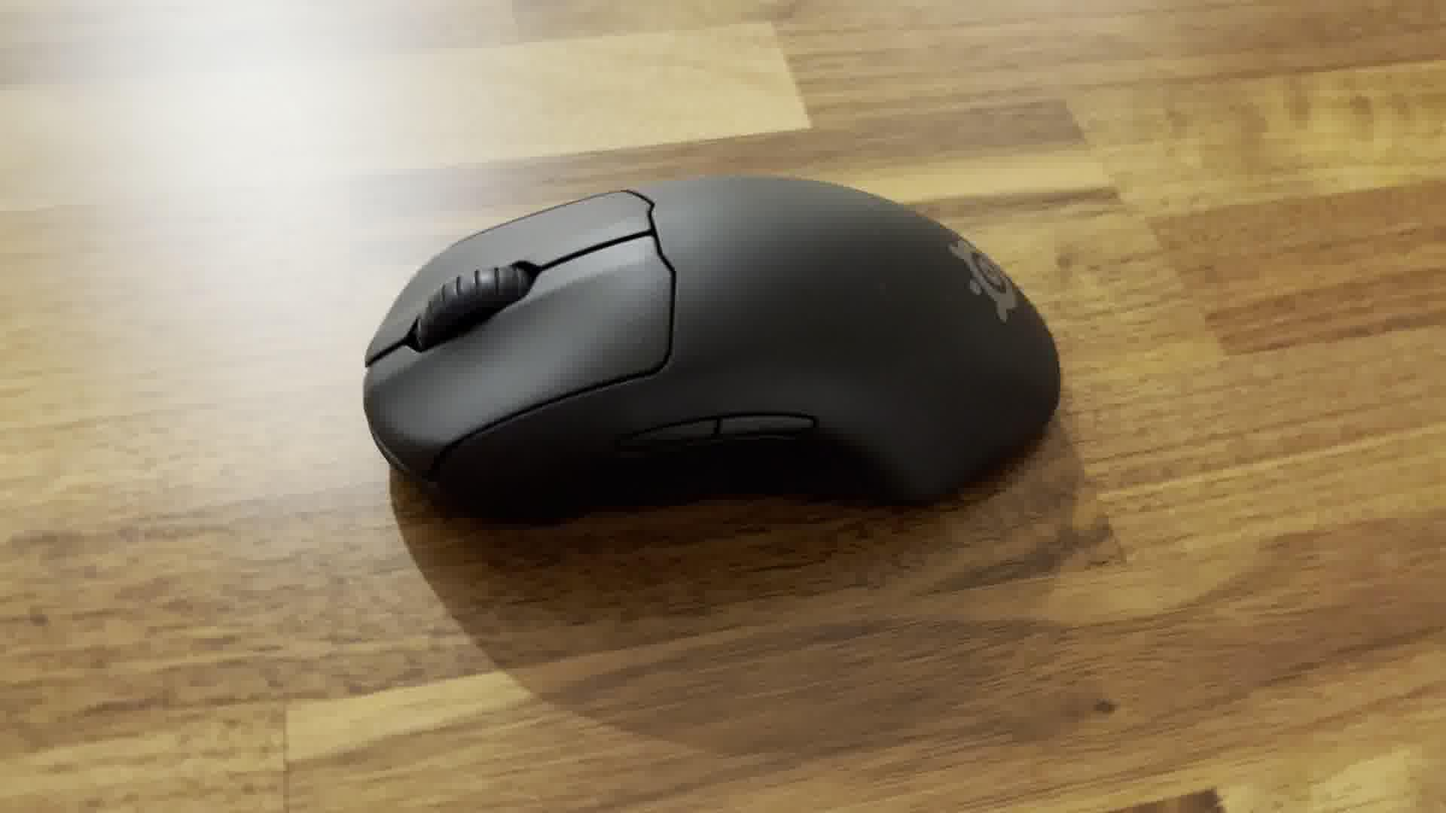mouse: (355, 170, 1067, 536)
